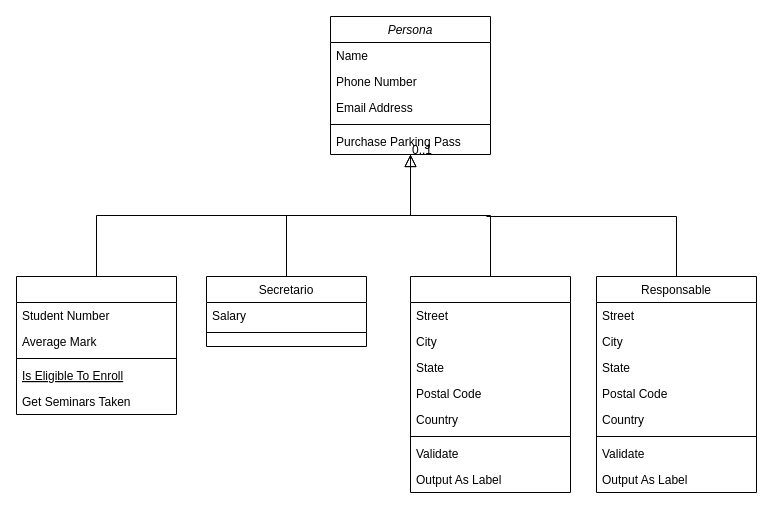
Some shapes in this 773 by 509 pixel diagram are drawn without their labels. The shapes that lost their labels are listed below. From the top down, each one's box as (x1, y1, x2, y2) in pixels, then its label:
(16, 276, 176, 414): Odontologo
(410, 276, 570, 492): Paciente
